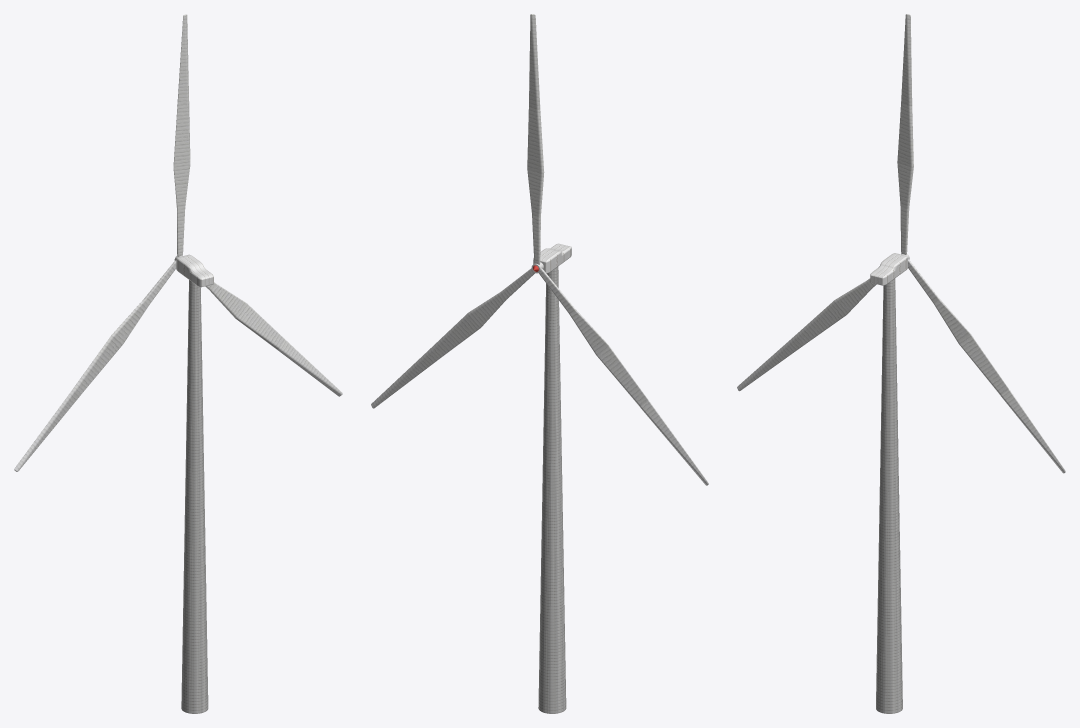
The model's file is Ветряк.obj.
3 views of the same model, side by side, from view 1: azimuth 30°, elevation 25°; view 2: azimuth 150°, elevation 25°; view 3: azimuth 330°, elevation 25° (orthographic). The views are drawn at different scales.
Visible parts, largest first — view 1: Основание, Куб.002, Куб.003, Куб.001, Куб; view 2: Основание, Куб.003, Куб.002, Куб.001, Куб; view 3: Основание, Куб.001, Куб.002, Куб.003, Куб.
Boxes of the visible parts, bbox=[...] form: Основание: bbox=[181, 280, 208, 713]; Куб.002: bbox=[173, 14, 190, 256]; Куб.003: bbox=[14, 260, 176, 471]; Куб.001: bbox=[205, 282, 342, 396]; Куб: bbox=[176, 254, 213, 287]; Основание: bbox=[538, 266, 566, 713]; Куб.003: bbox=[539, 268, 708, 485]; Куб.002: bbox=[527, 14, 544, 264]; Куб.001: bbox=[371, 268, 534, 408]; Куб: bbox=[533, 243, 571, 273]; Основание: bbox=[876, 278, 902, 713]; Куб.001: bbox=[908, 259, 1065, 473]; Куб.002: bbox=[897, 14, 913, 254]; Куб.003: bbox=[737, 278, 876, 391]; Куб: bbox=[870, 253, 907, 285].
Bounding box in the file's own units: 111 × 221 × 18.01.
